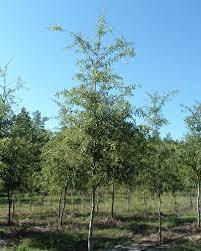tree: (36, 10, 147, 245)
